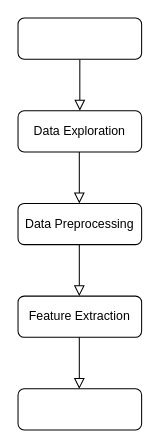
This 160x448 diagram has some shape labels left out. Each missing label, with the centre of its shape:
"Data Collection using Reddit API" belongs at point 79,38.
"Model Development" belongs at point 79,409.
